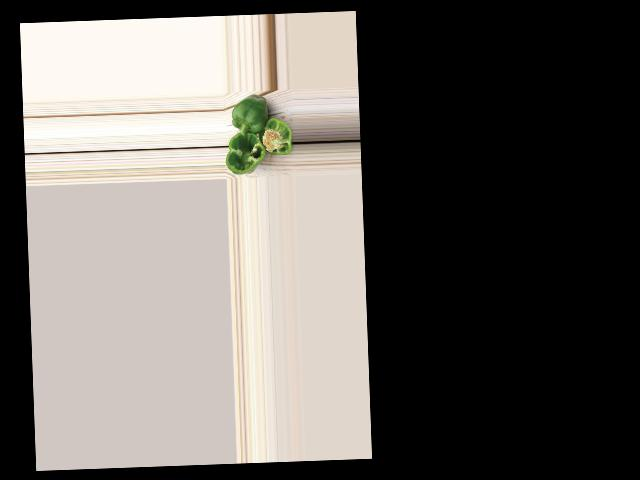bell_pepper: (258, 114, 293, 163)
